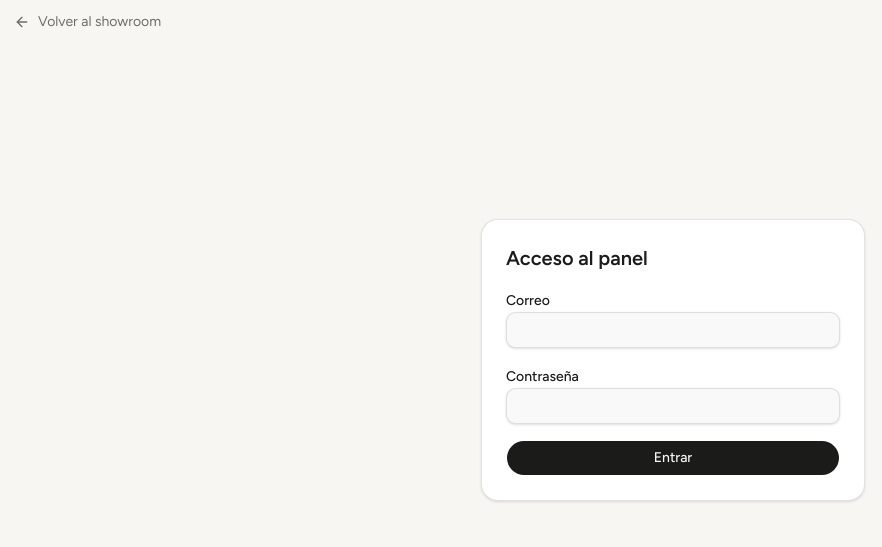
Test case: AdminLoginPage › shows the message returned by the action and re-enables the button
In the field labelled "Correo": (673, 330) 506,312 -> 840,348, type "admin@example.com"
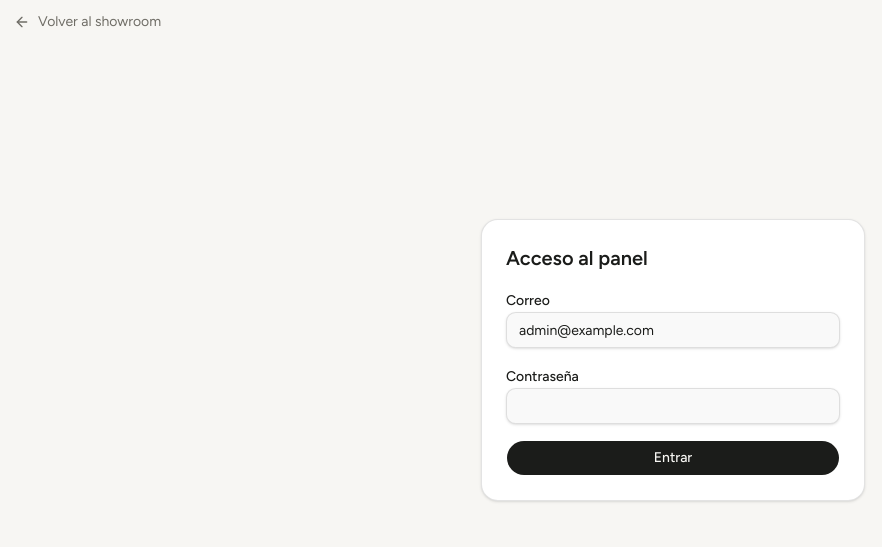
In the password field labelled "Contraseña": (673, 406) 506,388 -> 840,424, type "wrong"
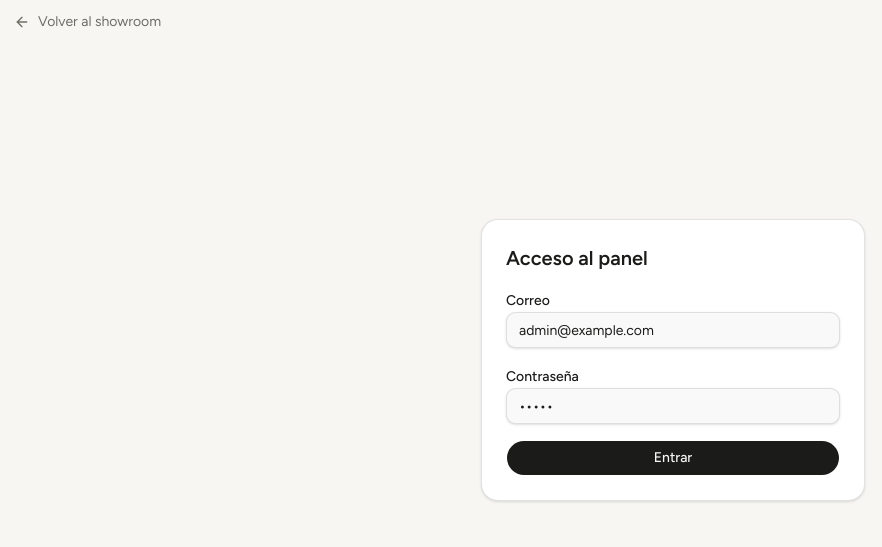
Submit the form "Entrar", box 481,219 -> 865,501
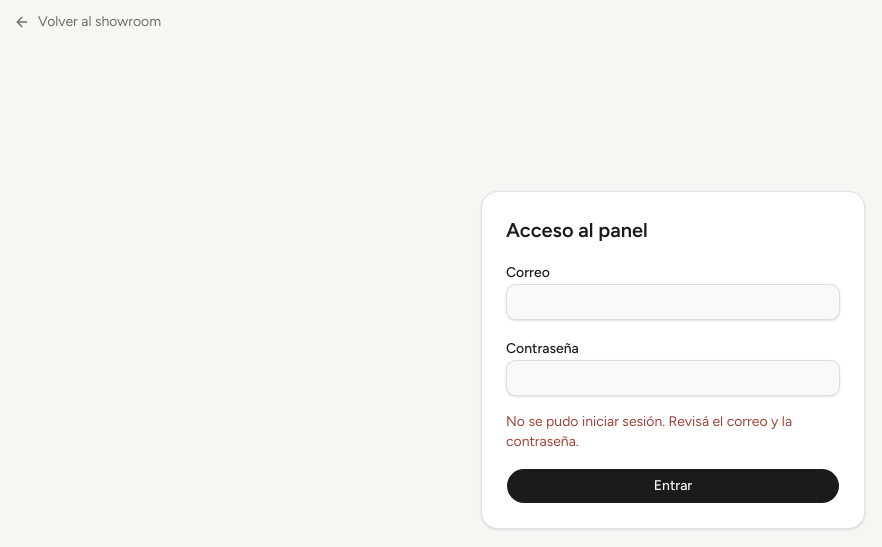
Expected: the button "Entrar" is enabled, 506,468 -> 840,504
Now the text "No se pudo iniciar sesión. Revisá el correo y la contraseña." is shown, box 506,412 -> 840,452
